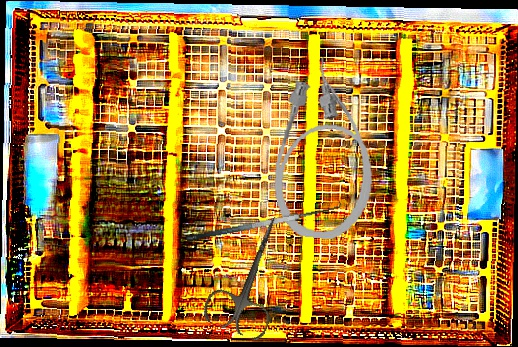Cannula: (266, 53, 388, 244)
Iris Scissors: (199, 205, 307, 343)
Spatula Surgical: (183, 194, 343, 243)
